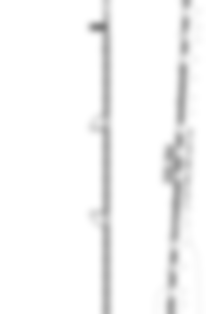door: (89, 113, 110, 131), (89, 210, 111, 226)
